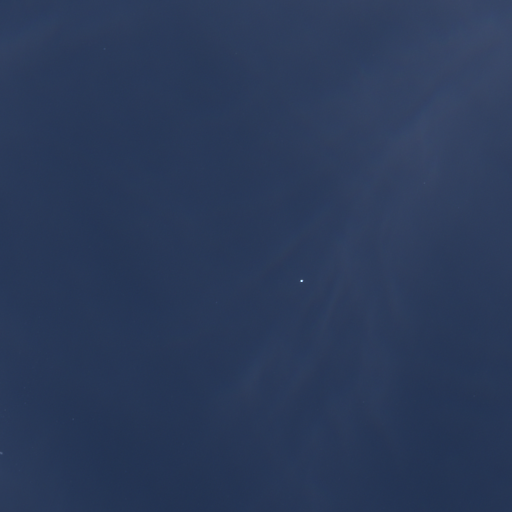Iceberg: (300, 279, 303, 281), (0, 452, 2, 453)
